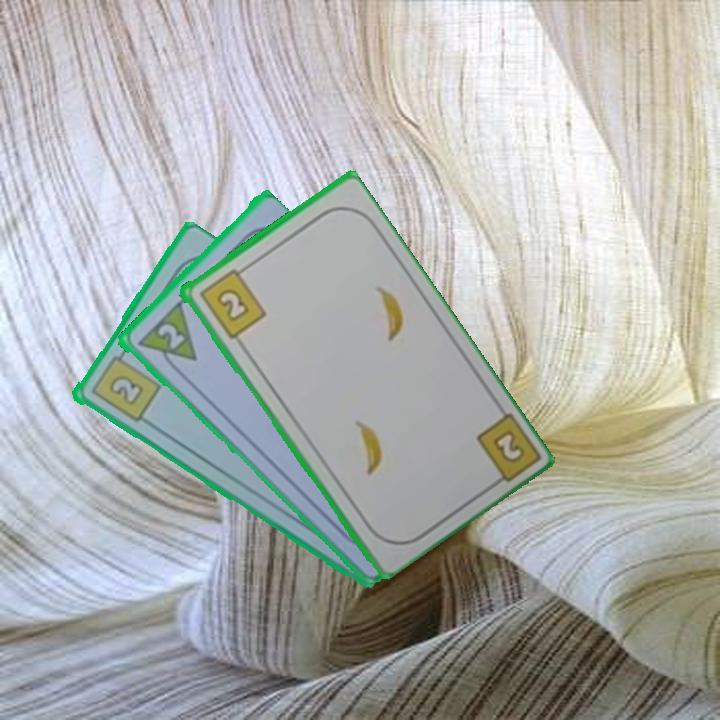2b: (87, 345, 163, 426), (195, 263, 269, 342), (489, 426, 528, 466)
2p: (132, 299, 199, 378)
